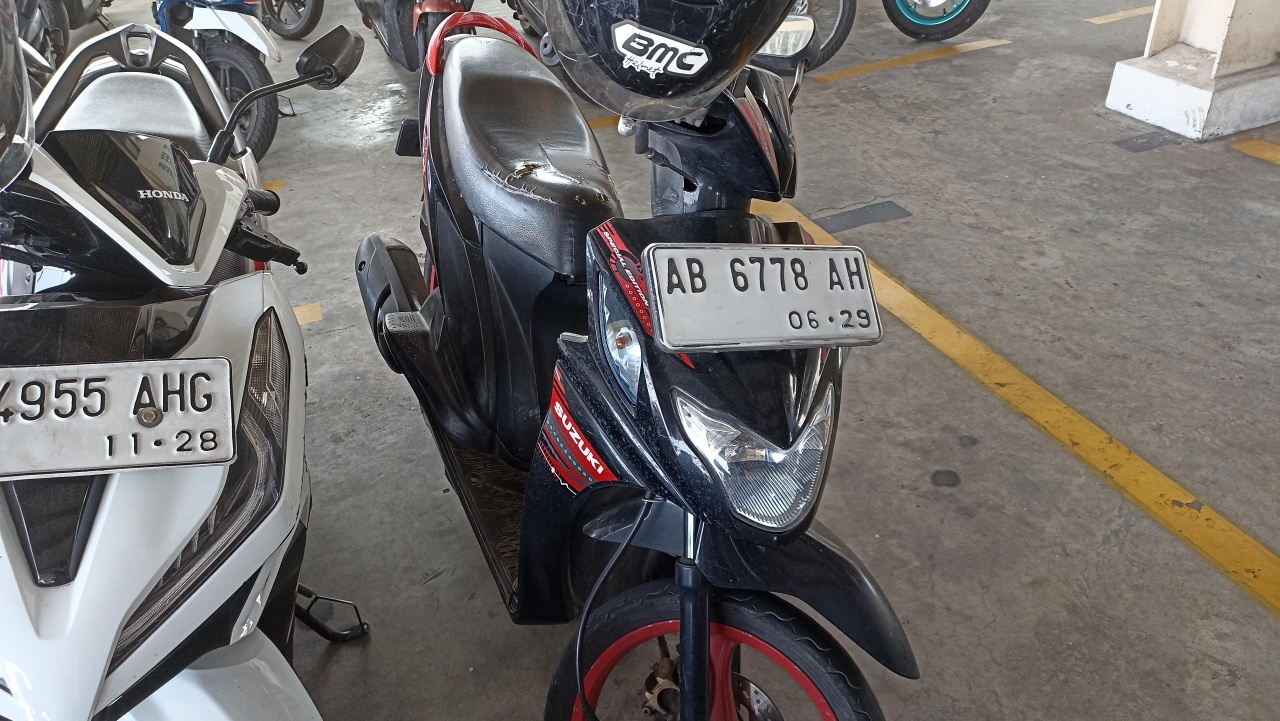plate: (645, 246, 884, 352)
